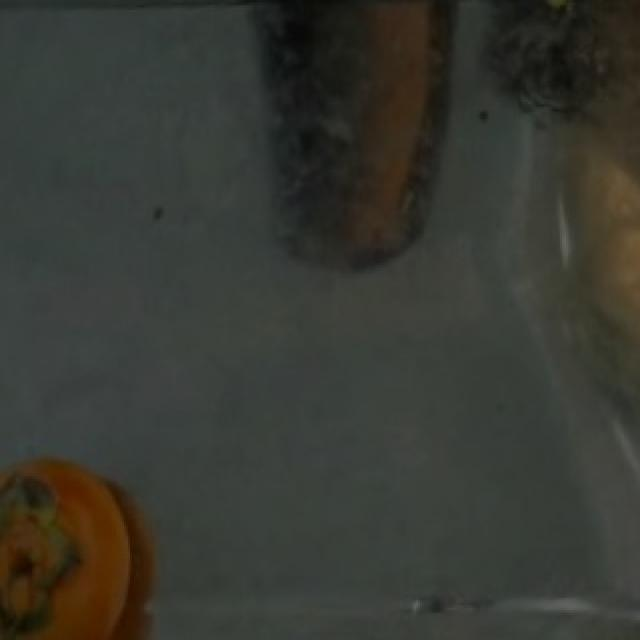Fruit: (0, 436, 158, 640)
